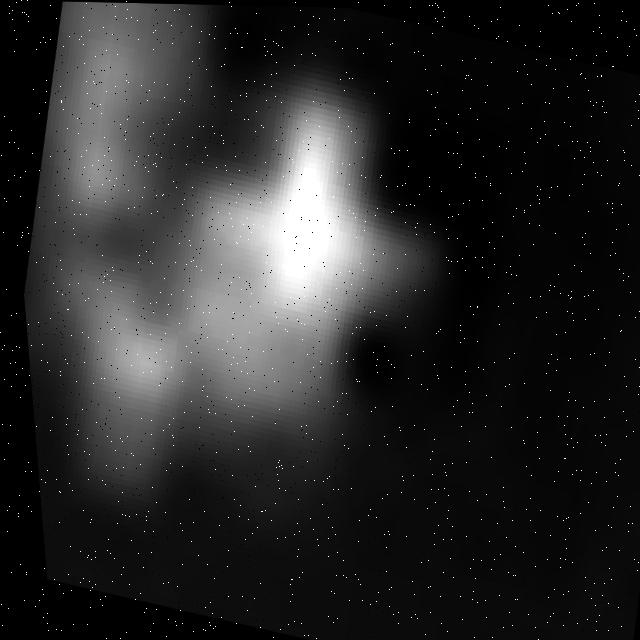person: (1, 1, 497, 548)
